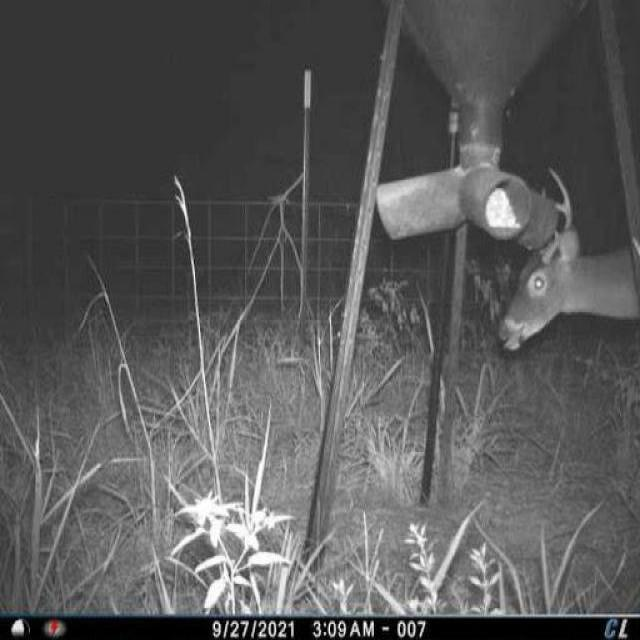deer: (496, 155, 640, 369)
